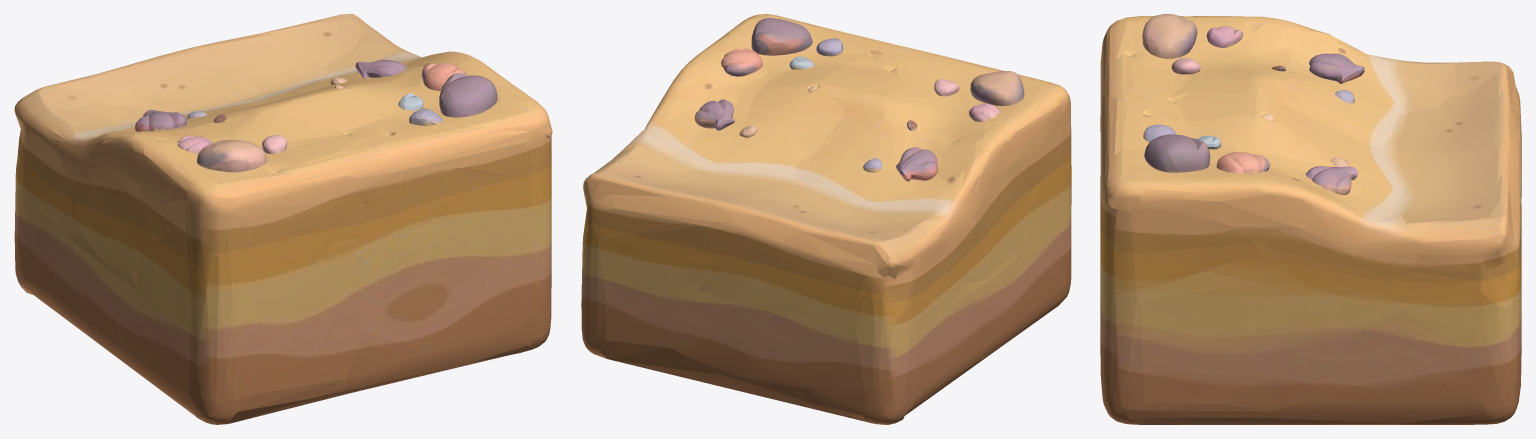
Rendered from t_beach.fbx.
The picture shows the model from 3 angles, left to right: view 1: azimuth 30°, elevation 25°; view 2: azimuth 150°, elevation 25°; view 3: azimuth 270°, elevation 25°; orthographic projection. The views are drawn at different scales.
Visible parts, largest first — view 1: Mesh_0; view 2: Mesh_0; view 3: Mesh_0.
Part boxes in pixels (x1,y1,x2,y2): Mesh_0: [14, 14, 552, 424]; Mesh_0: [581, 14, 1071, 424]; Mesh_0: [1100, 14, 1521, 424].
Size of the model in its own units: 1.9 by 1.31 by 1.9.
Materials: 1 (1 with a texture image).
